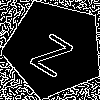Z: (29, 24, 81, 78)
